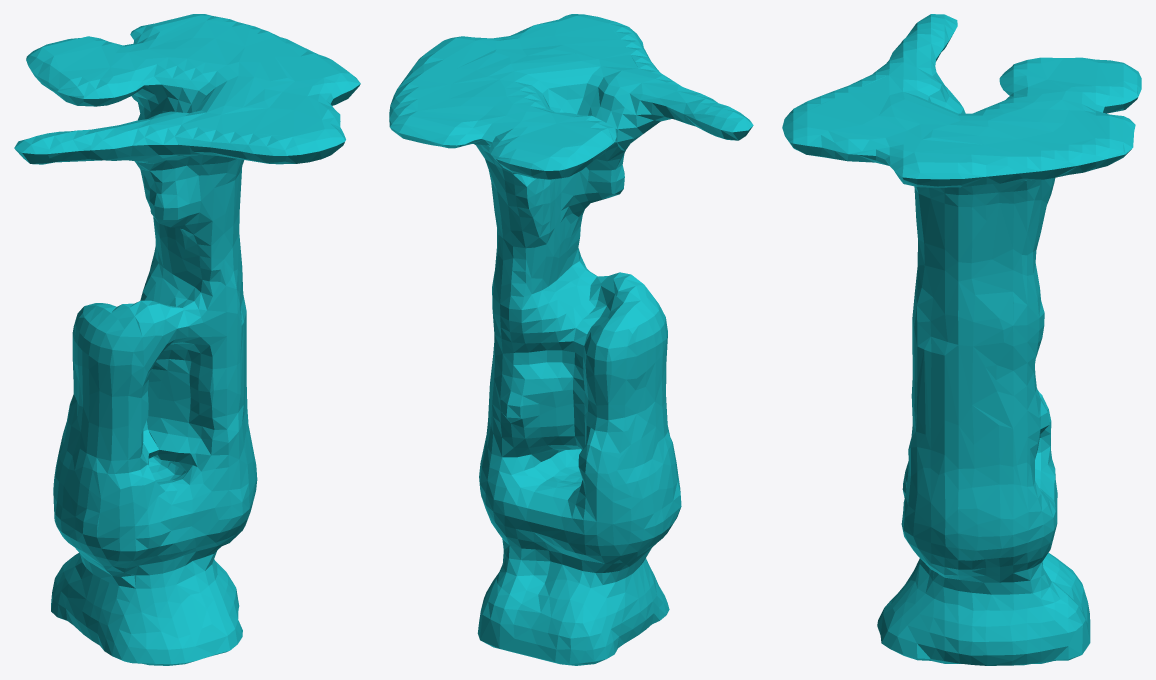
3 renders of one model, left to right at view 1: azimuth 30°, elevation 25°; view 2: azimuth 150°, elevation 25°; view 3: azimuth 270°, elevation 25°, orthographic. The views are drawn at different scales.
Parts seen in each view (by area): view 1: Liquid_Domain; view 2: Liquid_Domain; view 3: Liquid_Domain.
Boxes of the visible parts, box(x1,y1,x2,y2) form: Liquid_Domain: box(14, 14, 360, 665); Liquid_Domain: box(389, 14, 753, 665); Liquid_Domain: box(782, 14, 1141, 665).
Bounding box in the file's own units: 67.99 × 108 × 62.89.
